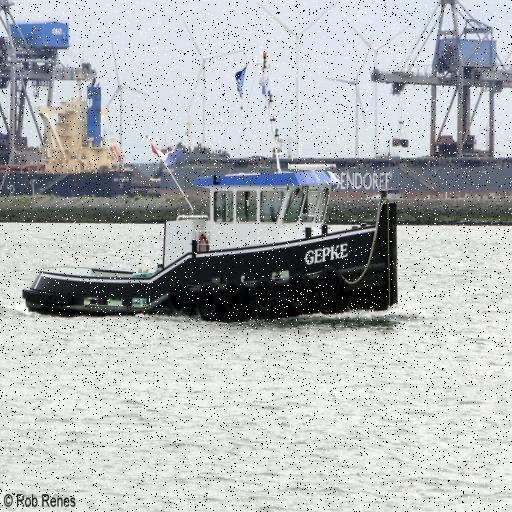tugboat: (19, 151, 404, 334)
